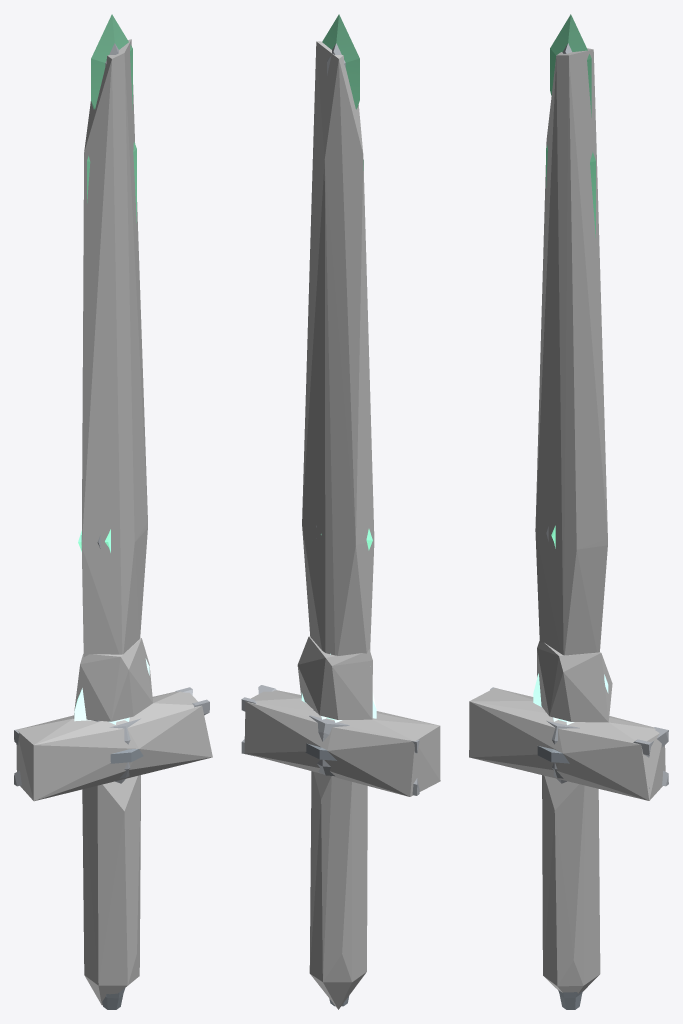
File: SM_Wep_Sword_02.fbx
3 views of the same model, side by side, from view 1: azimuth 30°, elevation 25°; view 2: azimuth 150°, elevation 25°; view 3: azimuth 330°, elevation 25° (orthographic).
Visible parts, largest first — view 1: SM_Wep_Sword_02_ConvexHulls, SM_Wep_Sword_02; view 2: SM_Wep_Sword_02_ConvexHulls, SM_Wep_Sword_02; view 3: SM_Wep_Sword_02_ConvexHulls, SM_Wep_Sword_02.
Part boxes in pixels (x1,y1,x2,y2): SM_Wep_Sword_02_ConvexHulls: (16, 39, 212, 1005); SM_Wep_Sword_02: (14, 14, 209, 1009); SM_Wep_Sword_02_ConvexHulls: (244, 41, 440, 1009); SM_Wep_Sword_02: (241, 14, 419, 1006); SM_Wep_Sword_02_ConvexHulls: (469, 48, 665, 993); SM_Wep_Sword_02: (490, 14, 668, 1009).
Bounding box in the file's own units: 28.75 × 10.78 × 152.
2 materials, 1 textured.
